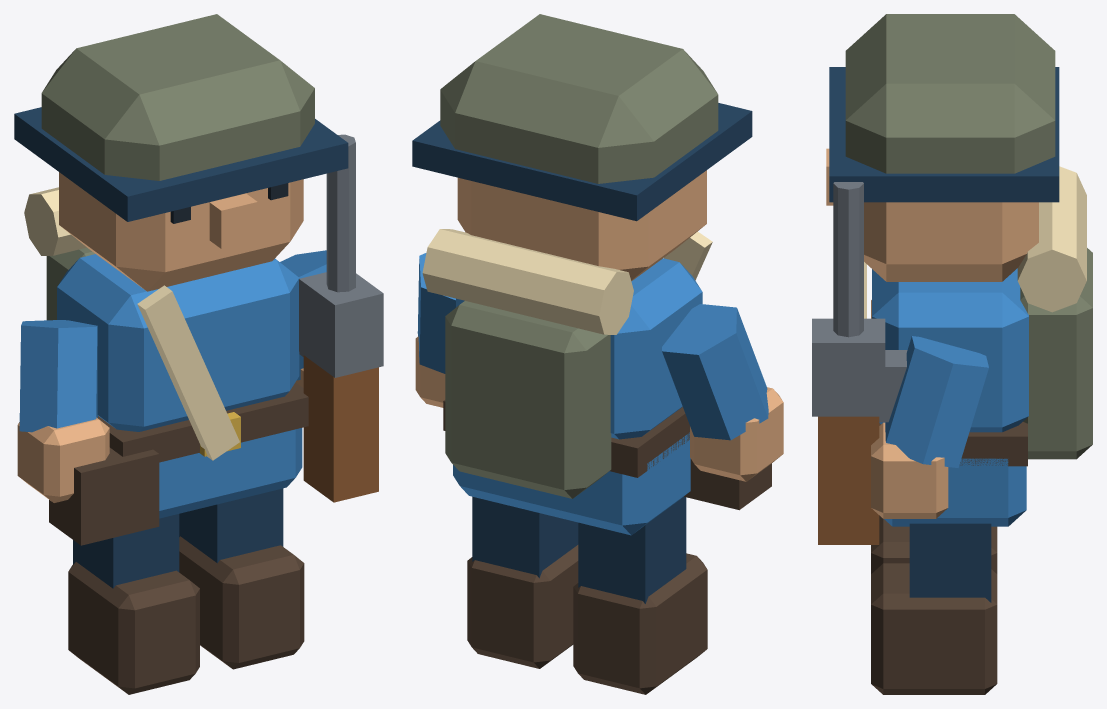
The model's file is u_infantry.glb.
3 renders of one model, left to right at view 1: azimuth 30°, elevation 25°; view 2: azimuth 150°, elevation 25°; view 3: azimuth 270°, elevation 25°, orthographic.
Visible parts, largest first — view 1: u_infantry; view 2: u_infantry; view 3: u_infantry.
Part boxes in pixels (<box>): u_infantry: <box>14,14,383,694</box>; u_infantry: <box>412,14,783,694</box>; u_infantry: <box>812,14,1092,694</box>.
Bounding box in the file's own units: 0.1983 × 0.328 × 0.138.
